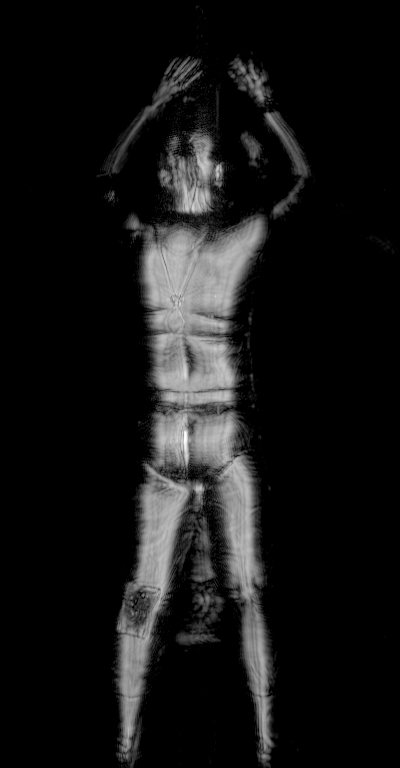head: (154, 126, 229, 200)
others: (113, 580, 166, 641)
person: (99, 54, 310, 768)
